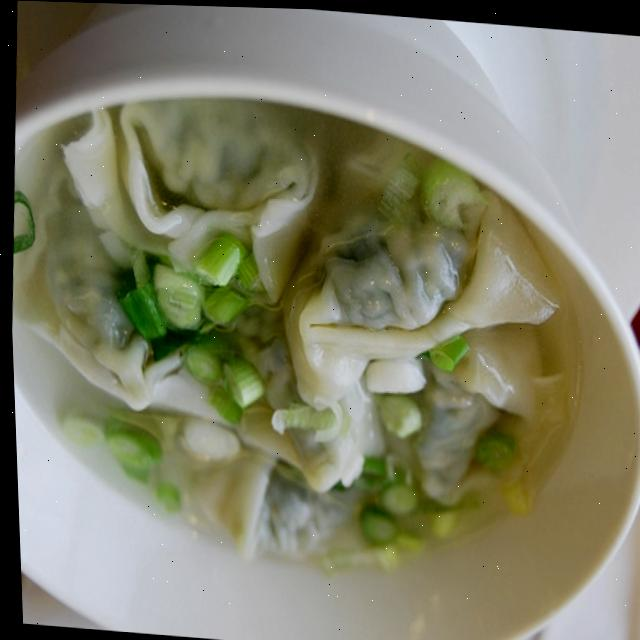汤锅炖物: (1, 51, 638, 640)
